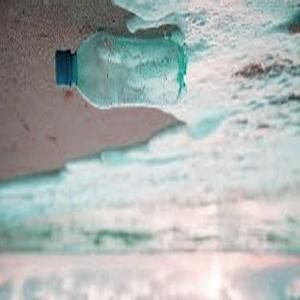Plastic: (49, 26, 189, 113)
